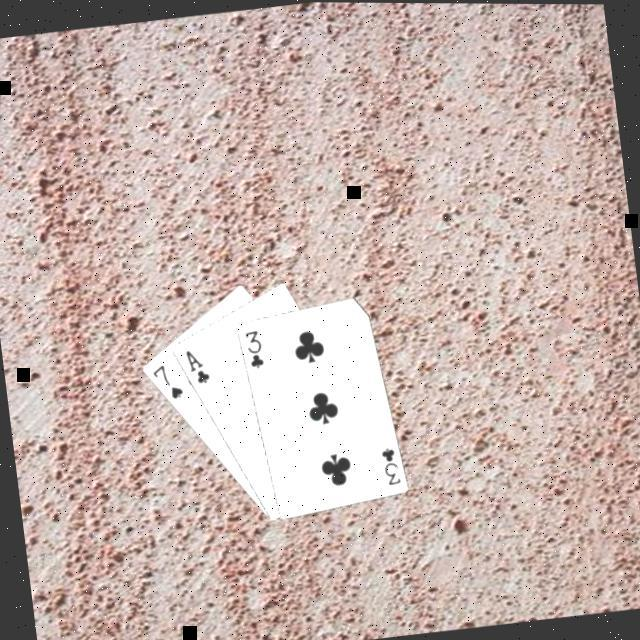3C: (378, 440, 405, 486), (242, 323, 268, 369)
7S: (148, 356, 188, 402)
AC: (182, 342, 214, 384)
